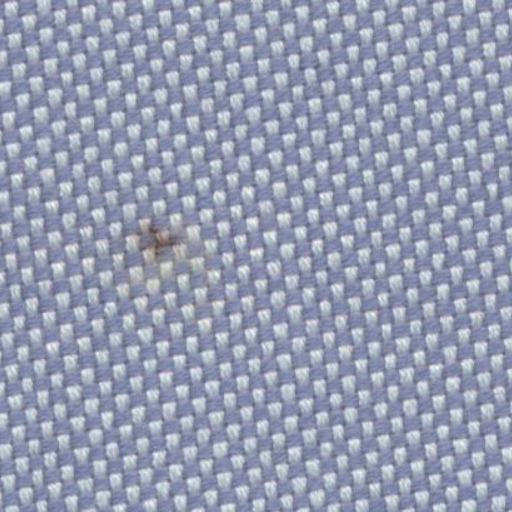WuZi: (90, 190, 225, 310)
